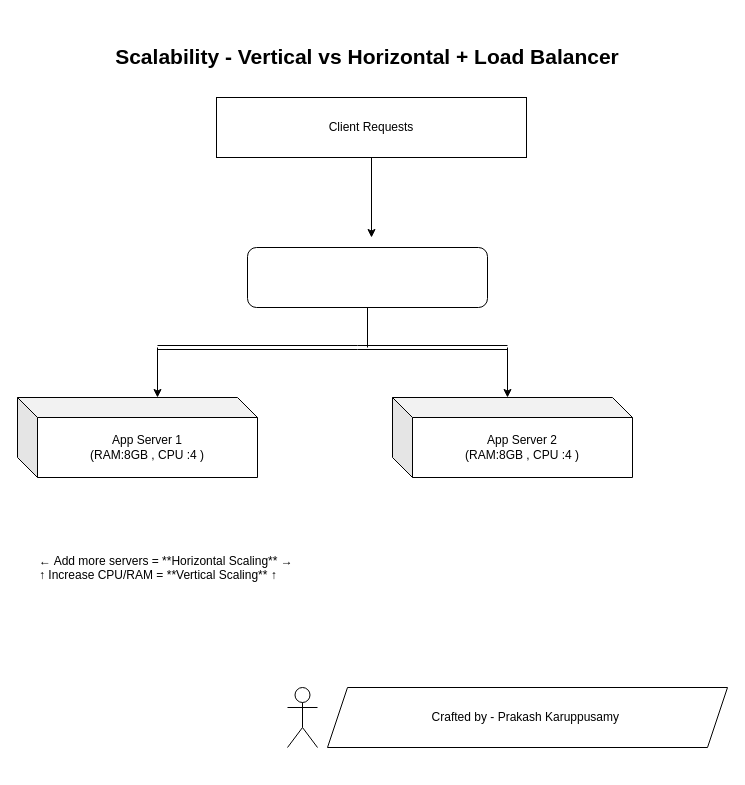
Image size: 745x785. Some labels were removed from this diagram. Each missing label, with the centre of its shape:
Actor: (x=302, y=717)
Load Balancer: (x=367, y=277)
